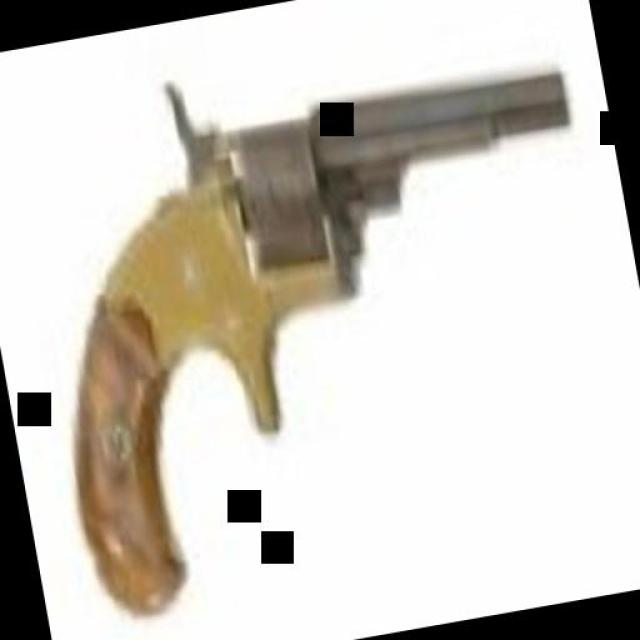gun: (11, 11, 640, 622)
